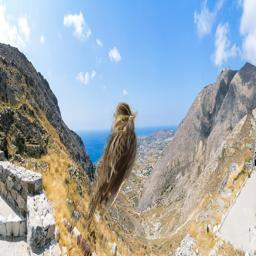Sparrow: (83, 102, 138, 232)
